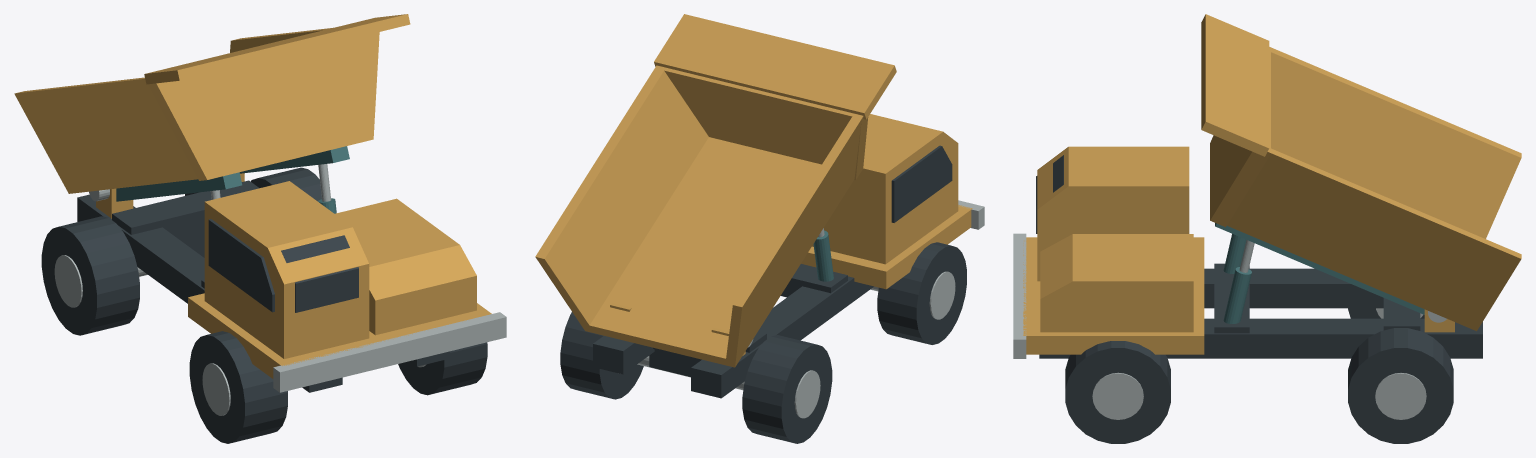
3 renders of one model, left to right at view 1: azimuth 30°, elevation 25°; view 2: azimuth 150°, elevation 25°; view 3: azimuth 270°, elevation 25°, orthographic. The views are drawn at different scales.
Parts seen in each view (by area): view 1: WholeTallFrontHeadboard, WholeOffsetLeftCab, WholeRaisedRearOpenBody, WholeRightPowerHood, WholeHeavyTyreLeft1, WholeRigidLongChassis, WholeHeavyTyreLeft0, WholeFrontBluntBumper, WholeForwardBodyCanopy, WholeFrontPlatform, WholeOpaqueCabSideWindow, WholeOpaqueCabWindscreen (+7 smaller); view 2: WholeRaisedRearOpenBody, WholeForwardBodyCanopy, WholeOffsetLeftCab, WholeTallFrontHeadboard, WholeRigidLongChassis, WholeHeavyTyreLeft1, WholeHeavyTyreLeft0, WholeFrontPlatform, WholeHeavyTyreRight1, WholeOpaqueCabSideWindow, WholeWheelHubLeft0, WholeWheelHubLeft1 (+2 smaller); view 3: WholeRaisedRearOpenBody, WholeRigidLongChassis, WholeRightPowerHood, WholeOffsetLeftCab, WholeHeavyTyreRight1, WholeForwardBodyCanopy, WholeHeavyTyreRight0, WholeFrontPlatform, WholeTallFrontHeadboard, WholeWheelHubRight1, WholeWheelHubRight0, WholeFrontBluntBumper (+3 smaller).
Part boxes in pixels (bbox=[...]): WholeTallFrontHeadboard: bbox=[148, 32, 379, 180]; WholeOffsetLeftCab: bbox=[204, 181, 369, 358]; WholeRaisedRearOpenBody: bbox=[14, 27, 333, 193]; WholeRightPowerHood: bbox=[335, 198, 476, 335]; WholeHeavyTyreLeft1: bbox=[41, 216, 139, 335]; WholeRigidLongChassis: bbox=[77, 180, 450, 392]; WholeHeavyTyreLeft0: bbox=[189, 331, 287, 443]; WholeFrontBluntBumper: bbox=[273, 312, 506, 392]; WholeForwardBodyCanopy: bbox=[144, 14, 410, 84]; WholeFrontPlatform: bbox=[188, 293, 491, 378]; WholeOpaqueCabSideWindow: bbox=[208, 219, 274, 312]; WholeOpaqueCabWindscreen: bbox=[281, 235, 358, 312]; WholeRaisedRearOpenBody: bbox=[535, 65, 863, 367]; WholeForwardBodyCanopy: bbox=[654, 14, 896, 119]; WholeOffsetLeftCab: bbox=[812, 114, 958, 264]; WholeTallFrontHeadboard: bbox=[664, 67, 868, 180]; WholeRigidLongChassis: bbox=[593, 264, 873, 398]; WholeHeavyTyreLeft1: bbox=[742, 335, 832, 443]; WholeHeavyTyreLeft0: bbox=[877, 242, 966, 344]; WholeFrontPlatform: bbox=[801, 205, 972, 289]; WholeHeavyTyreRight1: bbox=[560, 312, 643, 399]; WholeOpaqueCabSideWindow: bbox=[891, 145, 952, 222]; WholeWheelHubLeft0: bbox=[929, 271, 955, 319]; WholeWheelHubLeft1: bbox=[794, 370, 820, 418]; WholeRaisedRearOpenBody: bbox=[1227, 47, 1521, 331]; WholeRigidLongChassis: bbox=[1039, 263, 1482, 358]; WholeRightPowerHood: bbox=[1040, 234, 1193, 332]; WholeOffsetLeftCab: bbox=[1037, 146, 1189, 281]; WholeHeavyTyreRight1: bbox=[1348, 328, 1453, 443]; WholeForwardBodyCanopy: bbox=[1201, 14, 1269, 156]; WholeHeavyTyreRight0: bbox=[1065, 341, 1170, 443]; WholeFrontPlatform: bbox=[1023, 237, 1204, 354]; WholeTallFrontHeadboard: bbox=[1210, 51, 1270, 227]; WholeWheelHubRight1: bbox=[1375, 373, 1426, 419]; WholeWheelHubRight0: bbox=[1092, 372, 1143, 419]; WholeFrontBluntBumper: bbox=[1013, 233, 1026, 358].
Bounding box in the file's own units: 2.51 × 3.27 × 4.71.
